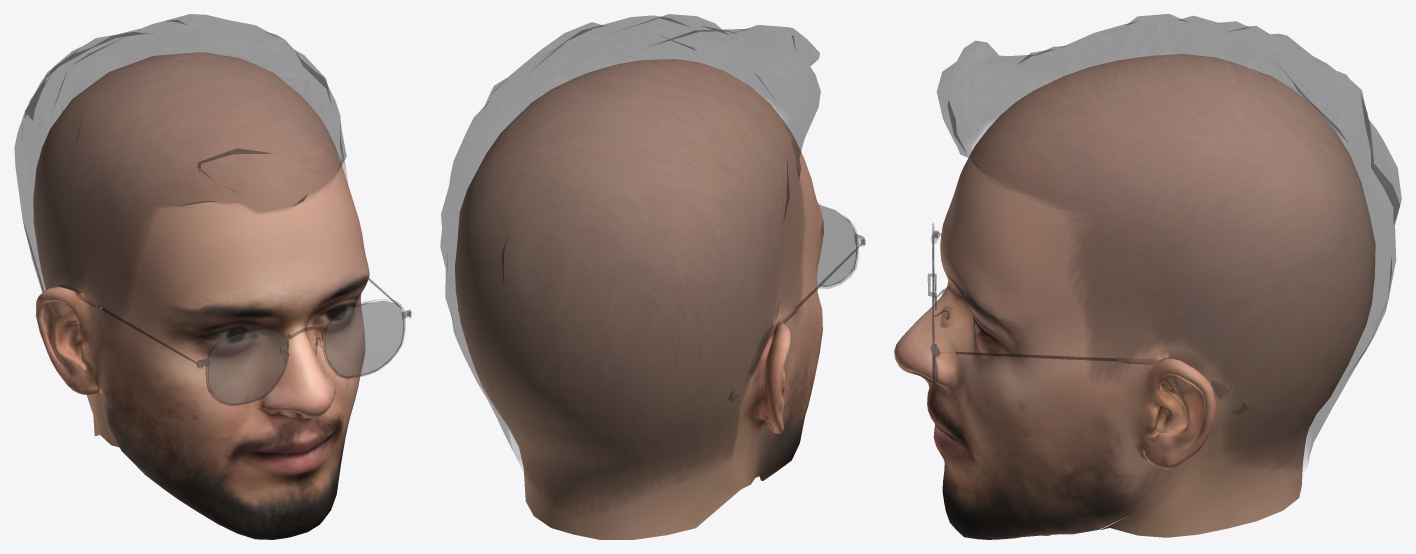
3 renders of one model, left to right at view 1: azimuth 30°, elevation 25°; view 2: azimuth 150°, elevation 25°; view 3: azimuth 270°, elevation 25°, orthographic. The views are drawn at different scales.
Visible parts, largest first — view 1: sanky; view 2: sanky; view 3: sanky.
Boxes of the visible parts, x1,y1,x2,y2 form: sanky: [14, 14, 411, 539]; sanky: [440, 14, 865, 539]; sanky: [894, 14, 1401, 539].
Bounding box in the file's own units: 438 × 621 × 580.
4 materials, 2 textured.
